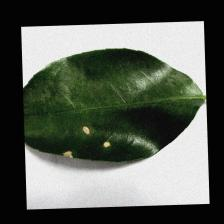canker: (46, 118, 118, 171)
